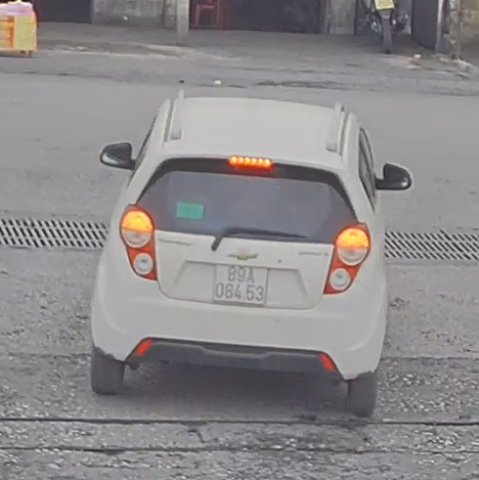vehicle plate: (212, 259, 268, 301)
